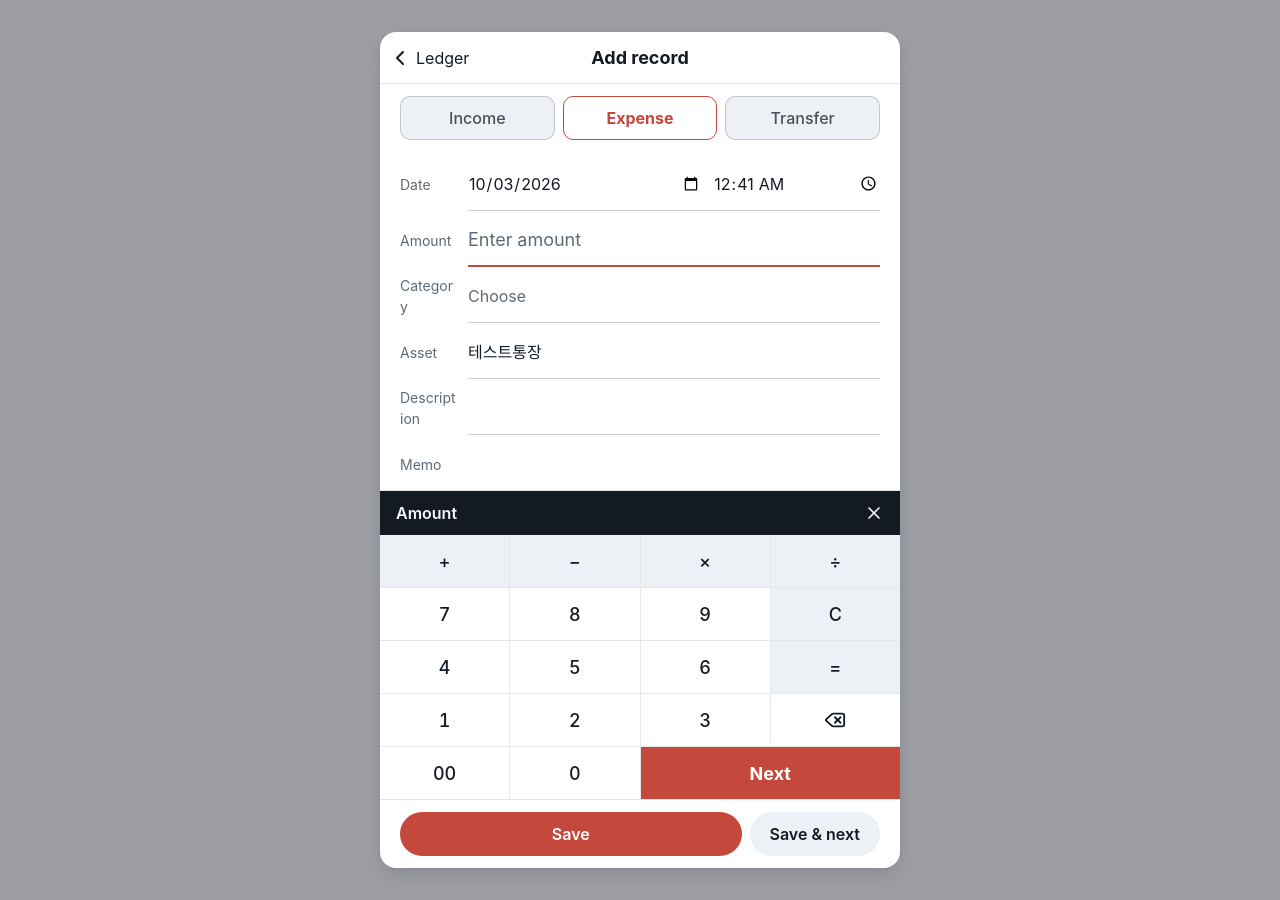
Test: entry follows English while preserving database names
Expected: the dialog "Add record" is shown, [380,32,900,868]
Expected: the button "Save" is shown, [400,812,742,856]
Click the button "Choose" at (497, 296), box [468,274,880,318]
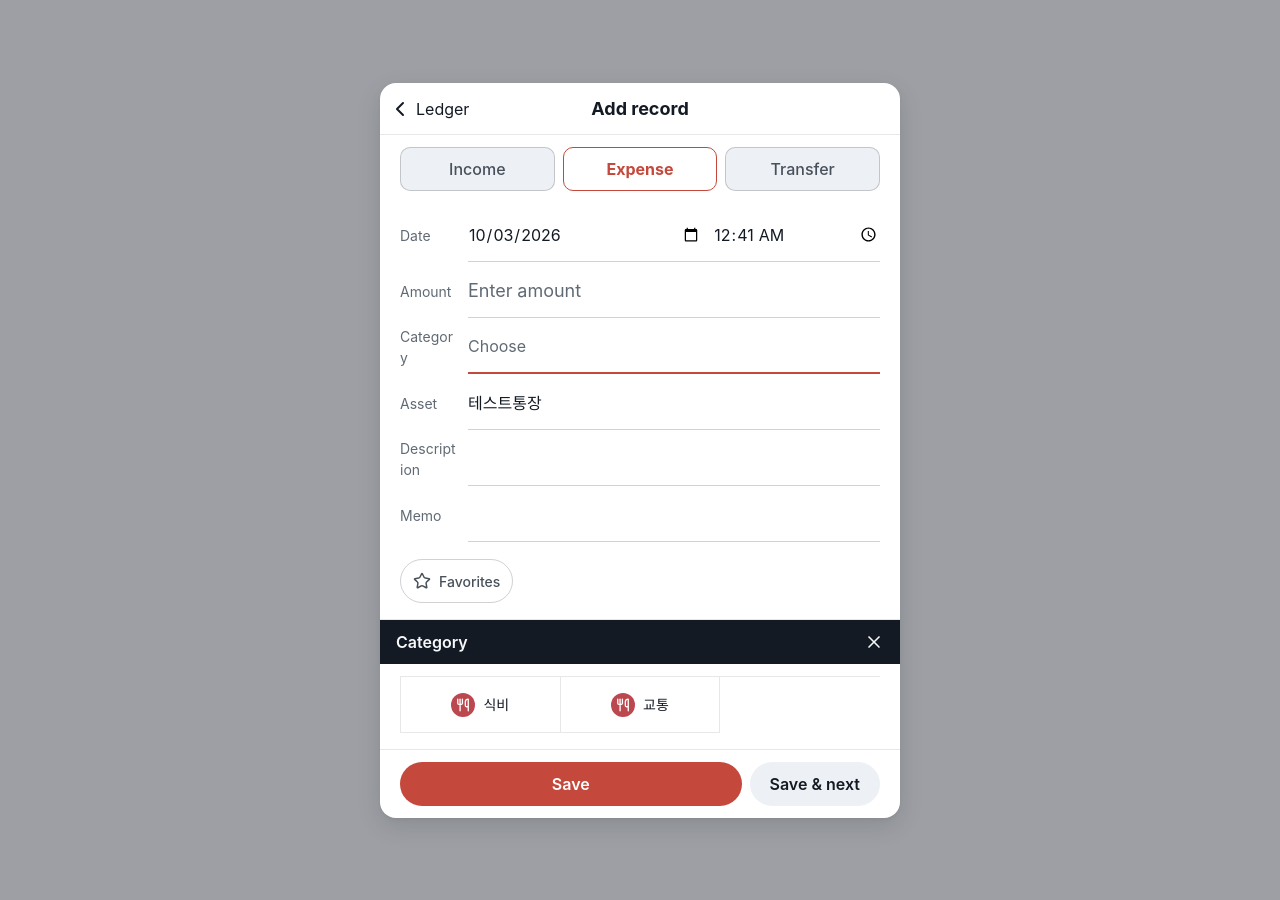
Result: the button "식비" is shown at [401,676,561,732]
